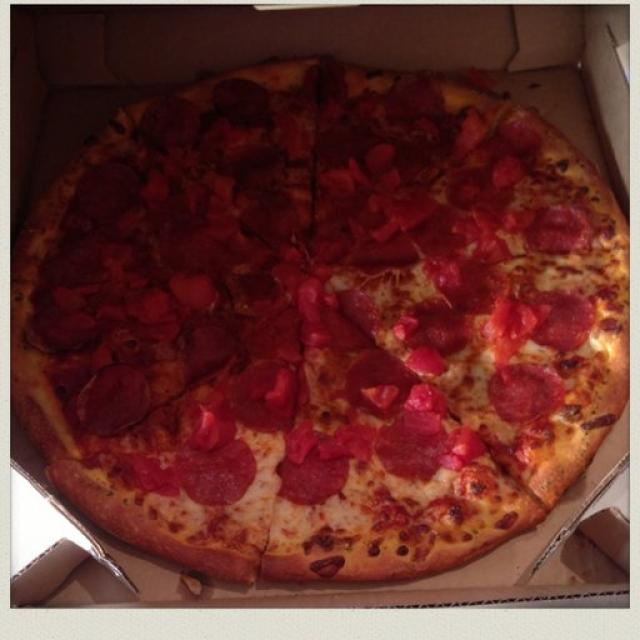Pepperoni: (282, 433, 352, 501), (487, 364, 566, 420), (188, 446, 257, 504), (381, 422, 447, 480), (348, 353, 409, 411), (442, 263, 511, 312), (243, 360, 289, 433), (532, 296, 598, 346), (90, 369, 146, 427), (83, 164, 135, 224), (534, 202, 596, 252), (141, 99, 202, 148), (214, 77, 270, 127), (390, 75, 446, 125), (408, 302, 466, 350), (178, 230, 233, 274), (340, 284, 381, 335), (416, 214, 464, 256), (352, 233, 424, 261), (329, 314, 373, 354)
Pizza: (14, 59, 629, 588)
Red Pepper: (322, 151, 407, 195), (284, 257, 327, 343), (190, 178, 241, 231), (491, 298, 533, 360), (469, 218, 513, 263), (138, 293, 178, 342), (323, 428, 377, 462), (367, 197, 411, 235), (172, 276, 220, 310), (441, 431, 478, 475), (280, 120, 310, 173), (59, 283, 94, 320), (453, 112, 484, 153), (407, 382, 448, 412), (285, 420, 314, 462), (406, 352, 448, 378), (267, 369, 292, 411), (358, 383, 398, 408), (495, 155, 522, 187), (192, 404, 212, 439), (142, 175, 162, 210), (459, 183, 482, 205)
